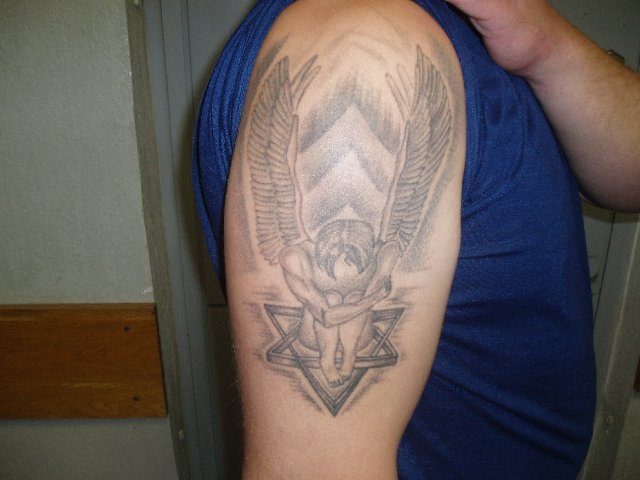tatu1_angel: (236, 44, 449, 354)
